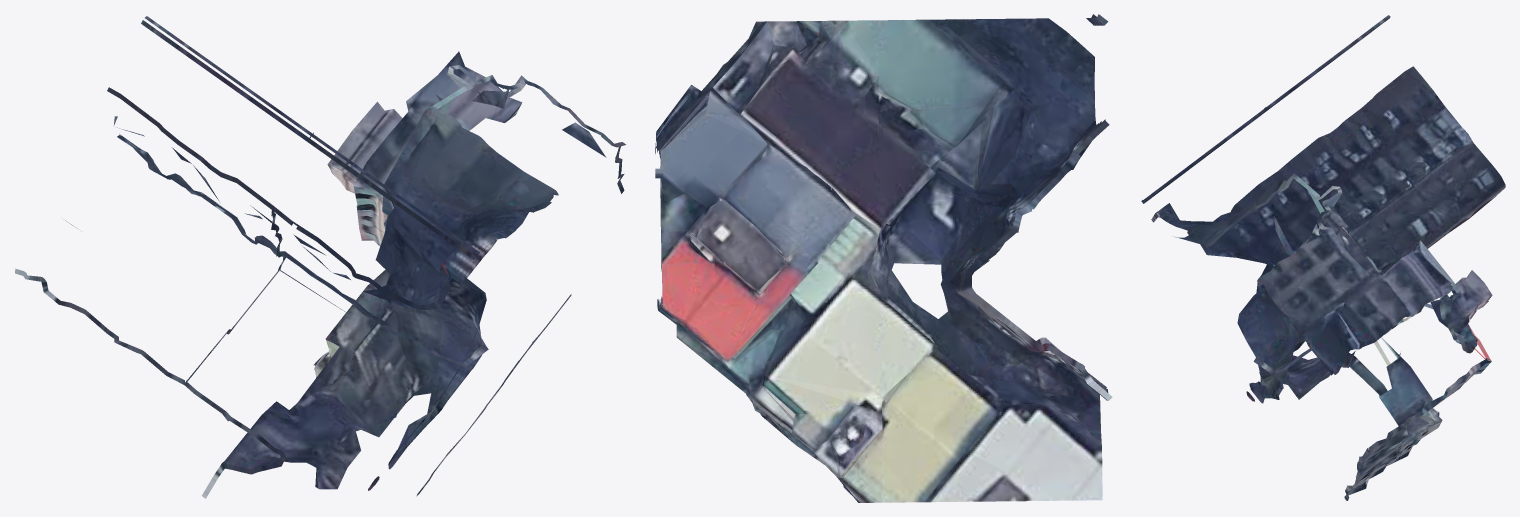
3 views of the same model, side by side, from view 1: azimuth 30°, elevation 25°; view 2: azimuth 150°, elevation 25°; view 3: azimuth 270°, elevation 25° (orthographic). The views are drawn at different scales.
Size of the model in its own units: 51.55 by 50.37 by 41.74.
1 material, 1 textured.
